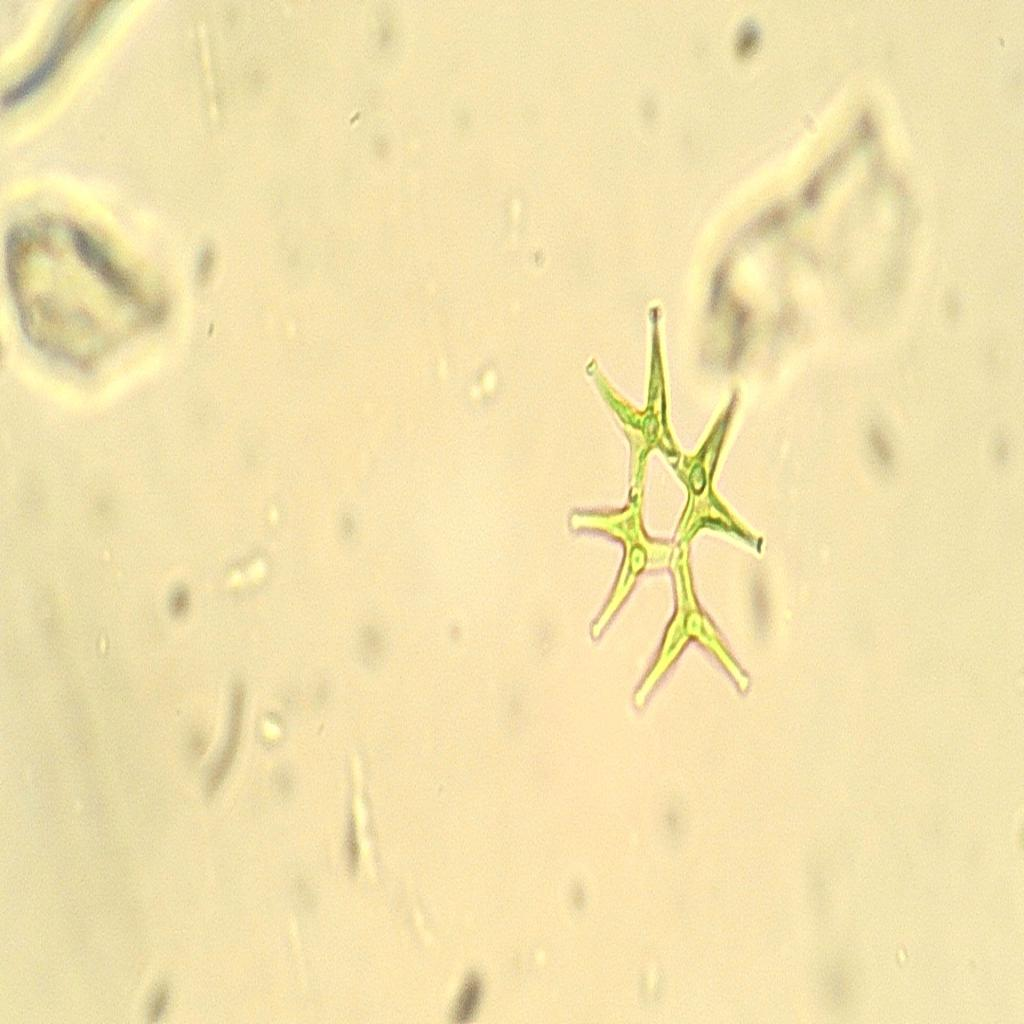Pediastrum_75FI: (562, 279, 779, 741)
